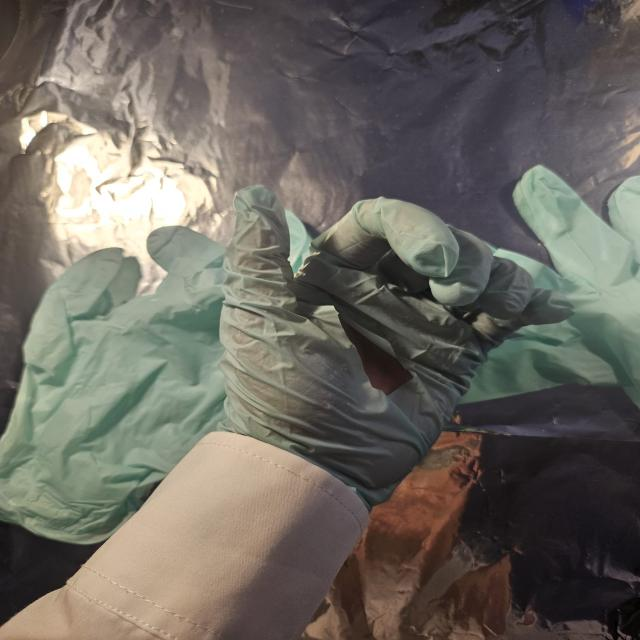gloves_damaged: (228, 182, 576, 510)
